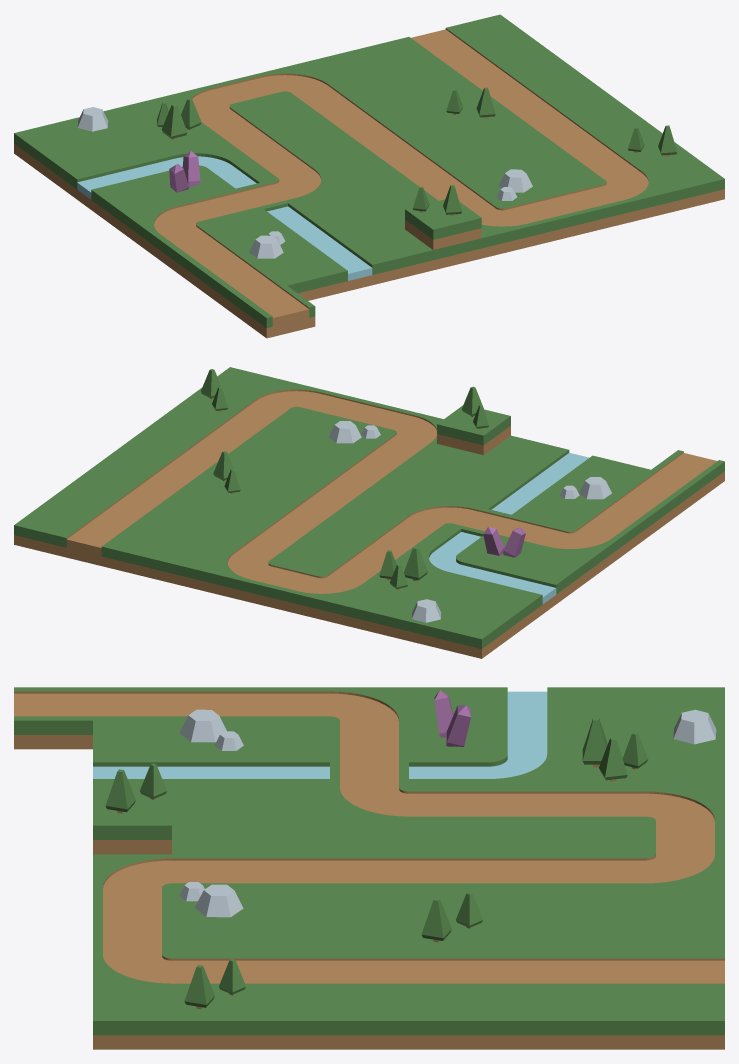
File: Level1.dae
3 renders of one model, top to bottom at view 1: azimuth 30°, elevation 25°; view 2: azimuth 150°, elevation 25°; view 3: azimuth 270°, elevation 25°, orthographic. The views are drawn at different scales.
Visible parts, largest first — view 1: Group15 (×38), Group2 (×31), Group7 (×11), Group18 (×9), Group62 (×4), Group47 (×2), Group48 (×2), Group39, Group52, Group22, Group68, Group53 (+1 smaller); view 2: Group15 (×40), Group2 (×28), Group7 (×11), Group18 (×8), Group62 (×4), Group52 (×2), Group47 (×2), Group48 (×2), Group39, Group68, Group53, Componen21; view 3: Group15 (×41), Group2 (×27), Group7 (×12), Group18 (×17), Group62 (×5), Group47 (×2), Componen07 (×3), Group48 (×2), Group22 (×2), Group39, Componen08 (×3), Group52 (+7 smaller).
Boxes of the visible parts, x1,y1,x2,y2 form: Group15 (×38): (14, 14, 724, 293); Group2 (×31): (162, 28, 642, 338); Group7 (×11): (126, 62, 676, 258); Group18 (×9): (70, 150, 384, 293); Group62 (×4): (405, 102, 696, 249); Group47 (×2): (231, 178, 550, 264); Group48 (×2): (249, 169, 532, 258); Group39: (147, 174, 222, 203); Group52: (63, 109, 138, 141); Group22: (168, 138, 243, 164); Group68: (140, 125, 215, 150); Group53: (77, 107, 108, 131); Group15 (×40): (14, 367, 650, 658); Group2 (×28): (60, 392, 717, 612); Group7 (×11): (201, 378, 616, 624); Group18 (×8): (434, 453, 589, 604); Group62 (×4): (176, 387, 510, 499); Group52 (×2): (388, 597, 461, 647); Group47 (×2): (316, 423, 623, 508); Group48 (×2): (328, 421, 611, 499); Group39: (469, 538, 542, 568); Group68: (369, 567, 441, 596); Group53: (412, 599, 441, 622); Componen21: (404, 547, 427, 580); Group15 (×41): (93, 687, 724, 1049); Group2 (×27): (14, 691, 724, 983); Group7 (×12): (93, 687, 724, 987); Group18 (×17): (93, 687, 566, 787); Group62 (×5): (93, 792, 487, 1049); Group47 (×2): (172, 720, 250, 920); Componen07 (×3): (105, 769, 451, 1007); Group48 (×2): (179, 709, 243, 917); Group22 (×2): (488, 754, 566, 787); Group39: (409, 720, 487, 753); Componen08 (×3): (140, 763, 482, 994); Group52: (646, 720, 724, 753).
Size of the model in its own units: 394 by 354 by 54.34.
